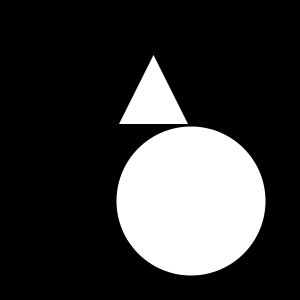rectangle: (117, 127, 266, 276)
triangle: (119, 55, 188, 124), (169, 129, 209, 169)
